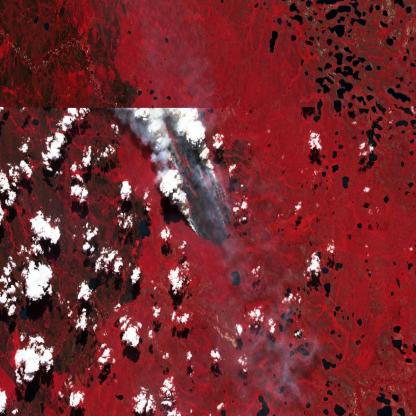fire: (134, 106, 240, 254)
